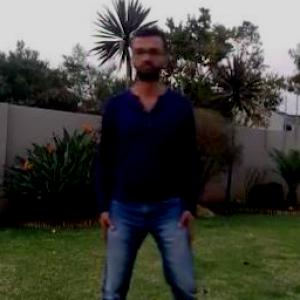follow: (88, 15, 207, 299)
